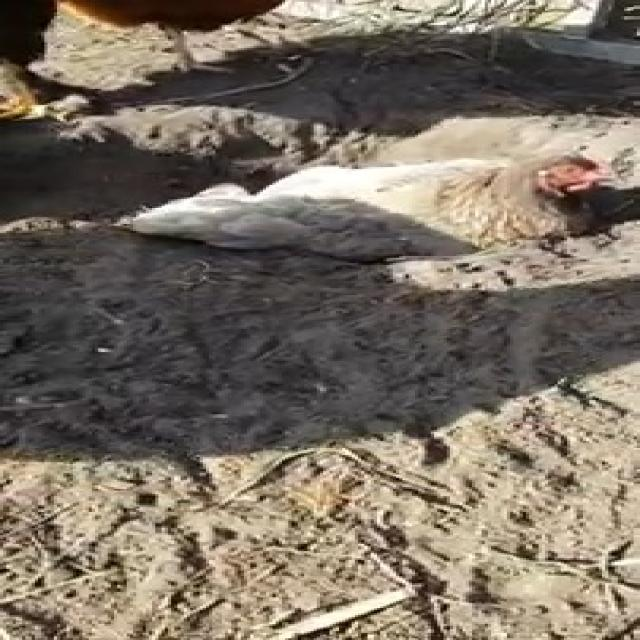stand bath: (98, 123, 628, 320)
